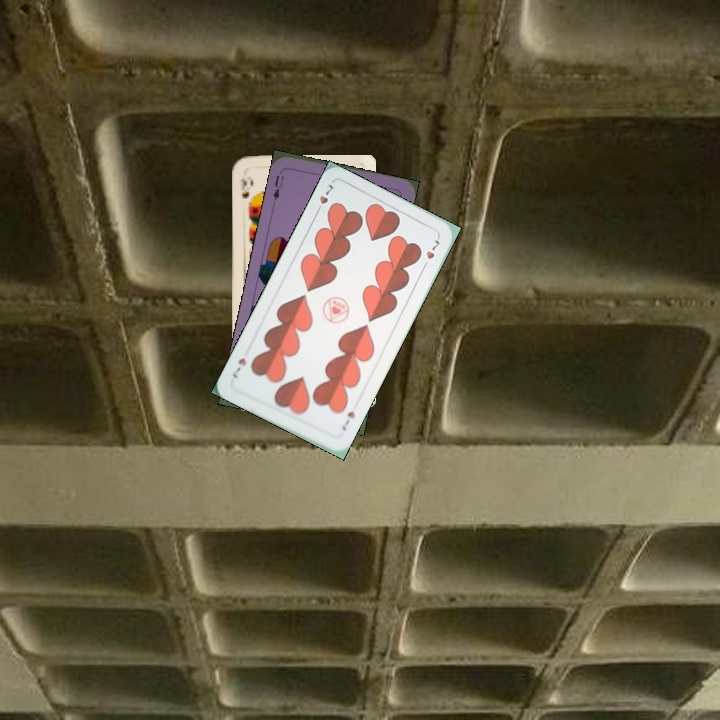EU: (269, 171, 287, 203)
H7: (311, 180, 336, 217), (338, 407, 358, 433)
S10: (235, 173, 251, 201)
